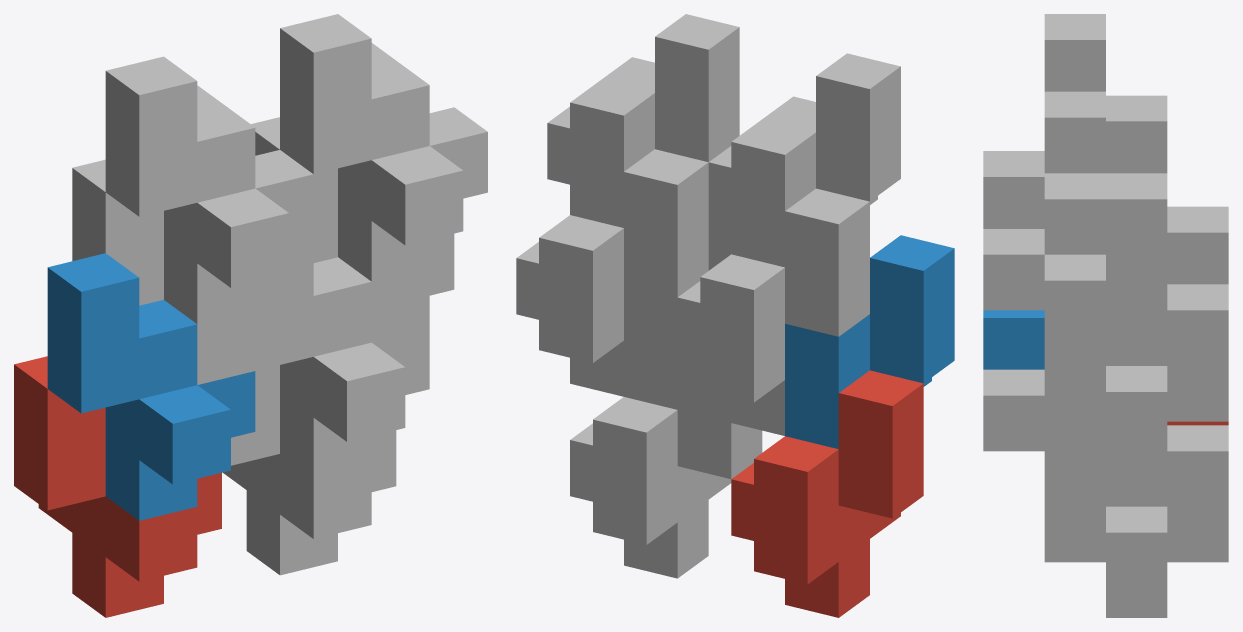
File: tiling.obj
The picture shows the model from 3 angles, left to right: view 1: azimuth 30°, elevation 25°; view 2: azimuth 150°, elevation 25°; view 3: azimuth 270°, elevation 25°; orthographic projection. The views are drawn at different scales.
Parts seen in each view (by area): view 1: copy_1_domain_4, copy_1_domain_8, copy_1_domain_2, copy_1_domain_6, copy_1_domain_1, copy_1_domain_5, copy_1_domain_3, copy_1_domain_7; view 2: copy_1_domain_1, copy_1_domain_3, copy_1_domain_7, copy_1_domain_5, copy_1_domain_4, copy_1_domain_8, copy_1_domain_2, copy_1_domain_6; view 3: copy_1_domain_8, copy_1_domain_7, copy_1_domain_5, copy_1_domain_4, copy_1_domain_6, copy_1_domain_3, copy_1_domain_2.
Part boxes in pixels (x1,y1,x2,y2): copy_1_domain_4: (105,56,313,324); copy_1_domain_8: (280,14,487,281); copy_1_domain_2: (47,253,255,520); copy_1_domain_6: (255,235,429,478); copy_1_domain_1: (14,356,221,617); copy_1_domain_5: (223,365,396,575); copy_1_domain_3: (72,159,255,384); copy_1_domain_7: (251,117,454,342); copy_1_domain_1: (731,370,923,617); copy_1_domain_3: (677,188,869,435); copy_1_domain_7: (516,149,708,396); copy_1_domain_5: (570,354,762,578); copy_1_domain_4: (708,53,900,267); copy_1_domain_8: (547,14,739,227); copy_1_domain_2: (785,235,954,448); copy_1_domain_6: (624,218,731,409); copy_1_domain_8: (983,91,1167,365); copy_1_domain_7: (1044,284,1228,476); copy_1_domain_5: (1044,425,1228,617); copy_1_domain_4: (983,14,1167,228); copy_1_domain_6: (983,369,1105,506); copy_1_domain_3: (1167,206,1228,284); copy_1_domain_2: (983,310,1044,369).
Bounding box in the file's own units: 7 × 9 × 4.
